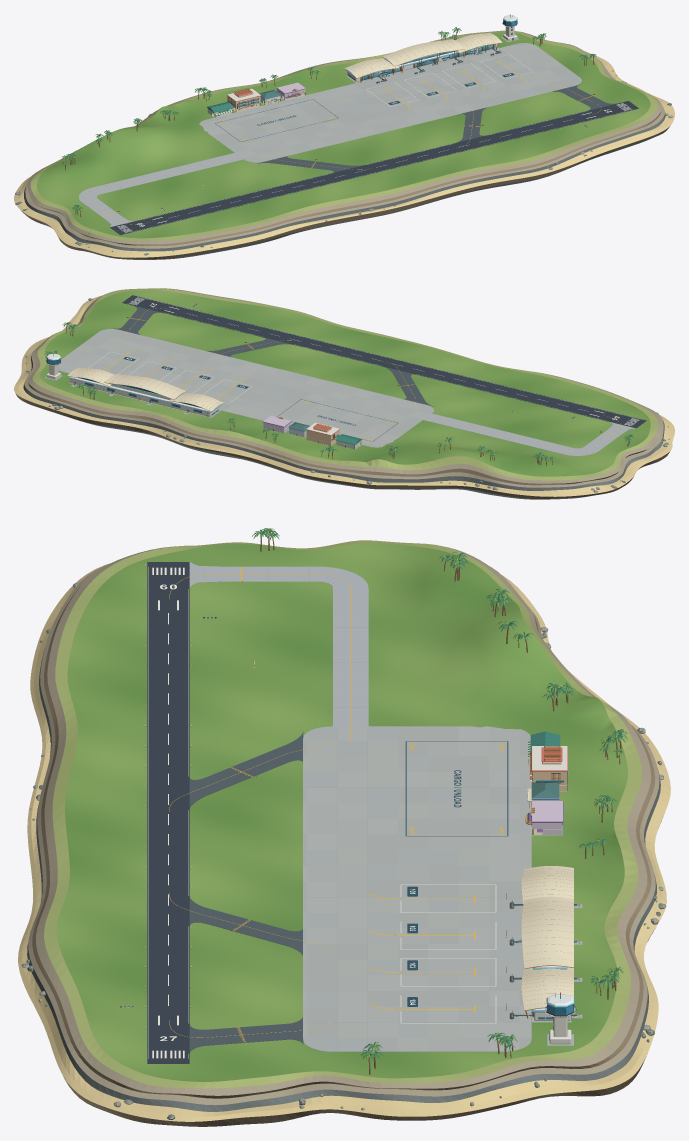
The model's file is Island_Airport_V5.glb.
3 views of the same model, one above another, from view 1: azimuth 30°, elevation 25°; view 2: azimuth 150°, elevation 25°; view 3: azimuth 270°, elevation 25° (orthographic). The views are drawn at different scales.
Visible parts, largest first — view 1: Island | Solid terrain-col, Apron | Cast concrete panel finish, Runway 09-27 | Asphalt slab-col, West taxiway | Continuous L pavement-col, Terminal | Central shell roof, Exit_01_West | Radiused junctions-col, Terminal | West shell roof, Terminal | East shell roof, Exit_03_East | Radiused junctions-col, Exit_02_Central | Radiused junctions-col; view 2: Island | Solid terrain-col, Apron | Cast concrete panel finish, Runway 09-27 | Asphalt slab-col, West taxiway | Continuous L pavement-col, Terminal | Central shell roof, Terminal | Main building-col, Exit_01_West | Radiused junctions-col, Exit_02_Central | Radiused junctions-col, Terminal | West shell roof, Exit_03_East | Radiused junctions-col, Terminal | East shell roof, Terminal | Main rounded roof; view 3: Island | Solid terrain-col, Apron | Cast concrete panel finish, Runway 09-27 | Asphalt slab-col, West taxiway | Continuous L pavement-col, Terminal | Central shell roof, Exit_01_West | Radiused junctions-col, Exit_02_Central | Radiused junctions-col, Exit_03_East | Radiused junctions-col, Terminal | East shell roof, Apron | Continuous concrete slab-col, Terminal | West shell roof, Apron | Concrete expansion seams.
Part boxes in pixels (x1,y1,x2,y2): Island | Solid terrain-col: [14, 30, 674, 259]; Apron | Cast concrete panel finish: [199, 43, 581, 162]; Runway 09-27 | Asphalt slab-col: [110, 101, 638, 234]; West taxiway | Continuous L pavement-col: [79, 153, 243, 225]; Terminal | Central shell roof: [381, 39, 464, 66]; Exit_01_West | Radiused junctions-col: [259, 156, 362, 172]; Terminal | West shell roof: [344, 58, 399, 78]; Terminal | East shell roof: [455, 33, 502, 53]; Exit_03_East | Radiused junctions-col: [552, 85, 615, 110]; Exit_02_Central | Radiused junctions-col: [457, 107, 486, 142]; Island | Solid terrain-col: [14, 288, 674, 499]; Apron | Cast concrete panel finish: [58, 329, 433, 447]; Runway 09-27 | Asphalt slab-col: [122, 295, 646, 428]; West taxiway | Continuous L pavement-col: [423, 413, 630, 455]; Terminal | Central shell roof: [104, 374, 186, 399]; Terminal | Main building-col: [70, 378, 219, 416]; Exit_01_West | Radiused junctions-col: [384, 367, 432, 406]; Exit_02_Central | Radiused junctions-col: [207, 337, 291, 357]; Terminal | West shell roof: [169, 393, 223, 411]; Exit_03_East | Radiused junctions-col: [115, 306, 160, 334]; Terminal | East shell roof: [67, 367, 114, 386]; Terminal | Main rounded roof: [69, 377, 219, 411]; Island | Solid terrain-col: [18, 540, 670, 1126]; Apron | Cast concrete panel finish: [303, 726, 531, 1051]; Runway 09-27 | Asphalt slab-col: [147, 562, 189, 1063]; West taxiway | Continuous L pavement-col: [189, 566, 368, 726]; Terminal | Central shell roof: [521, 896, 573, 969]; Exit_01_West | Radiused junctions-col: [190, 733, 302, 807]; Exit_02_Central | Radiused junctions-col: [190, 898, 302, 955]; Exit_03_East | Radiused junctions-col: [190, 1017, 302, 1051]; Terminal | East shell roof: [521, 967, 573, 1010]; Apron | Continuous concrete slab-col: [303, 726, 531, 1051]; Terminal | West shell roof: [521, 866, 573, 905]; Apron | Concrete expansion seams: [306, 728, 528, 1050].
Size of the model in its own units: 1034 by 73.21 by 495.
Materials: 69 (17 with a texture image).
